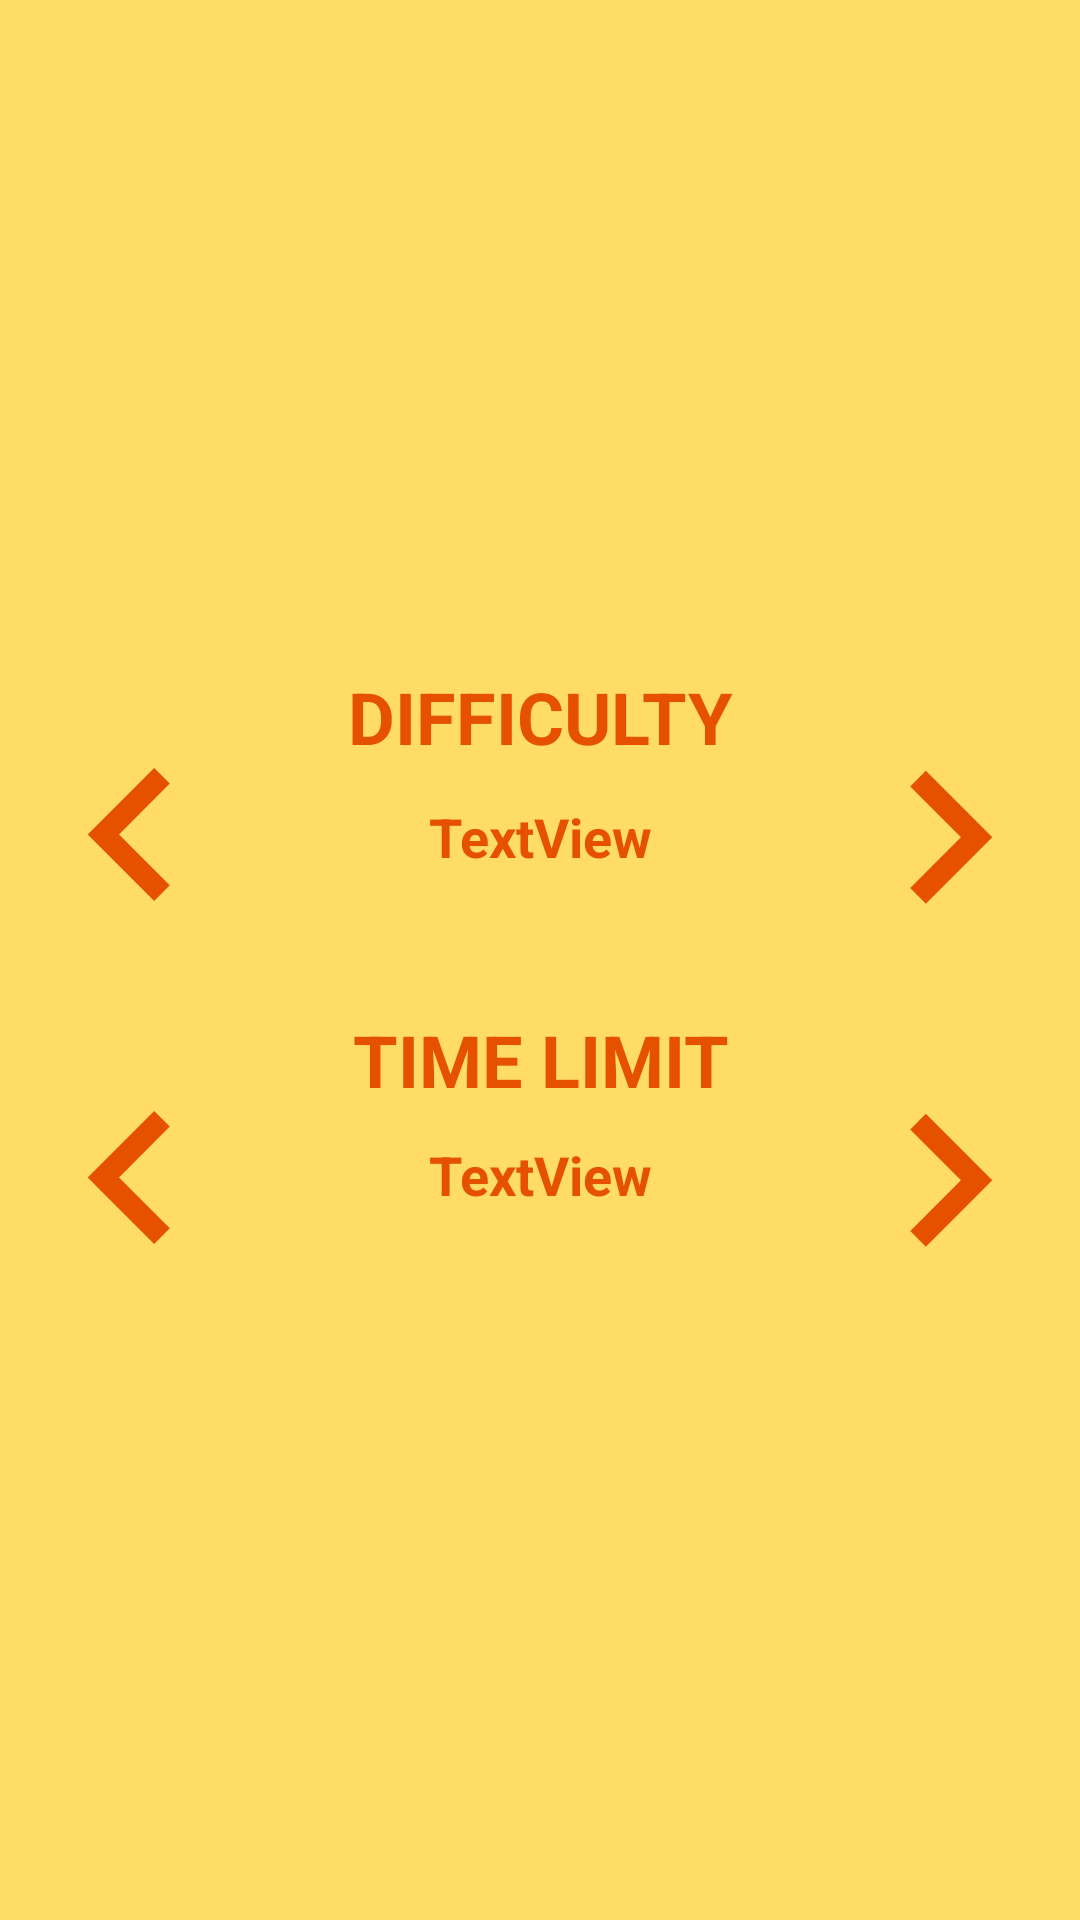

Where icons sit on this 1080px×1920px app screen, as [x1=x1, y1=y1, x2=x2, y2=y2]:
name right: [x1=910, y1=771, x2=992, y2=904], [x1=910, y1=1114, x2=992, y2=1247]
